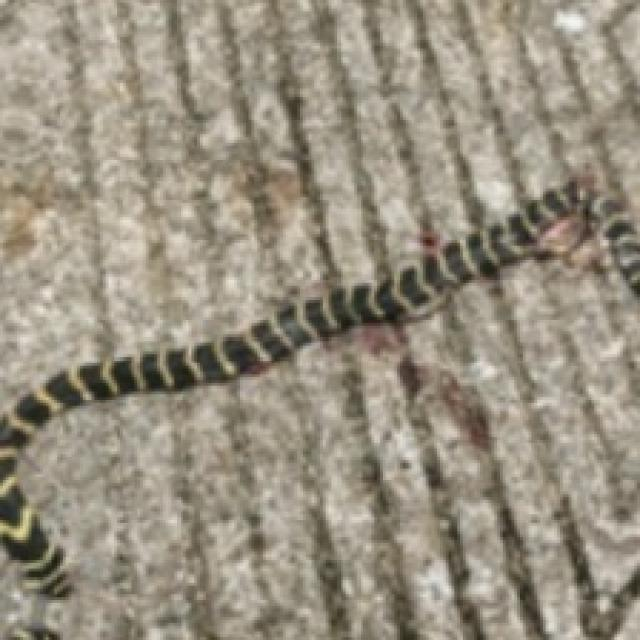king cobra: (0, 180, 637, 637)
